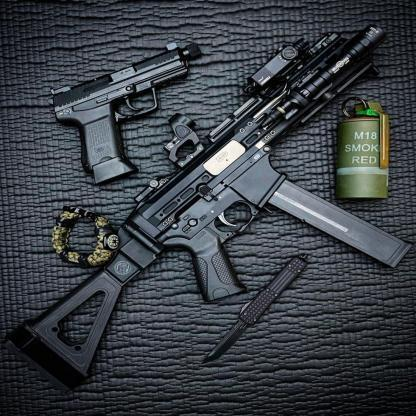Grenade: (333, 96, 392, 201)
Gun: (5, 23, 412, 395)
Knife: (200, 251, 311, 365)
Pistol: (49, 40, 205, 186)
